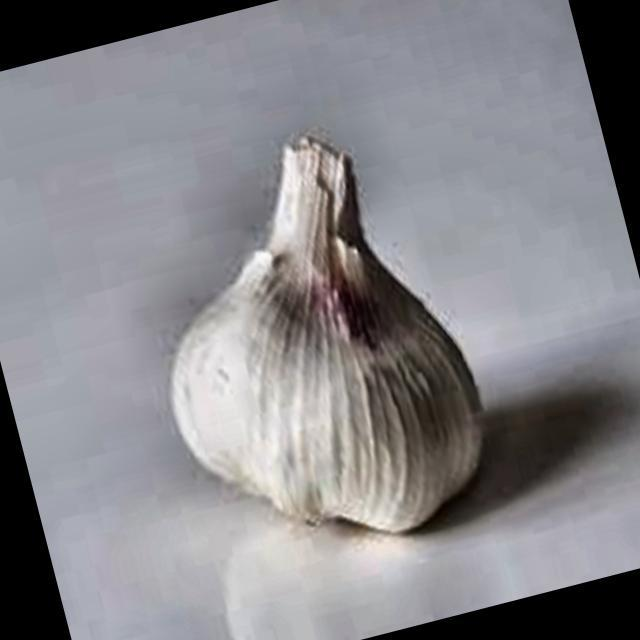garlic: (171, 134, 481, 532)
